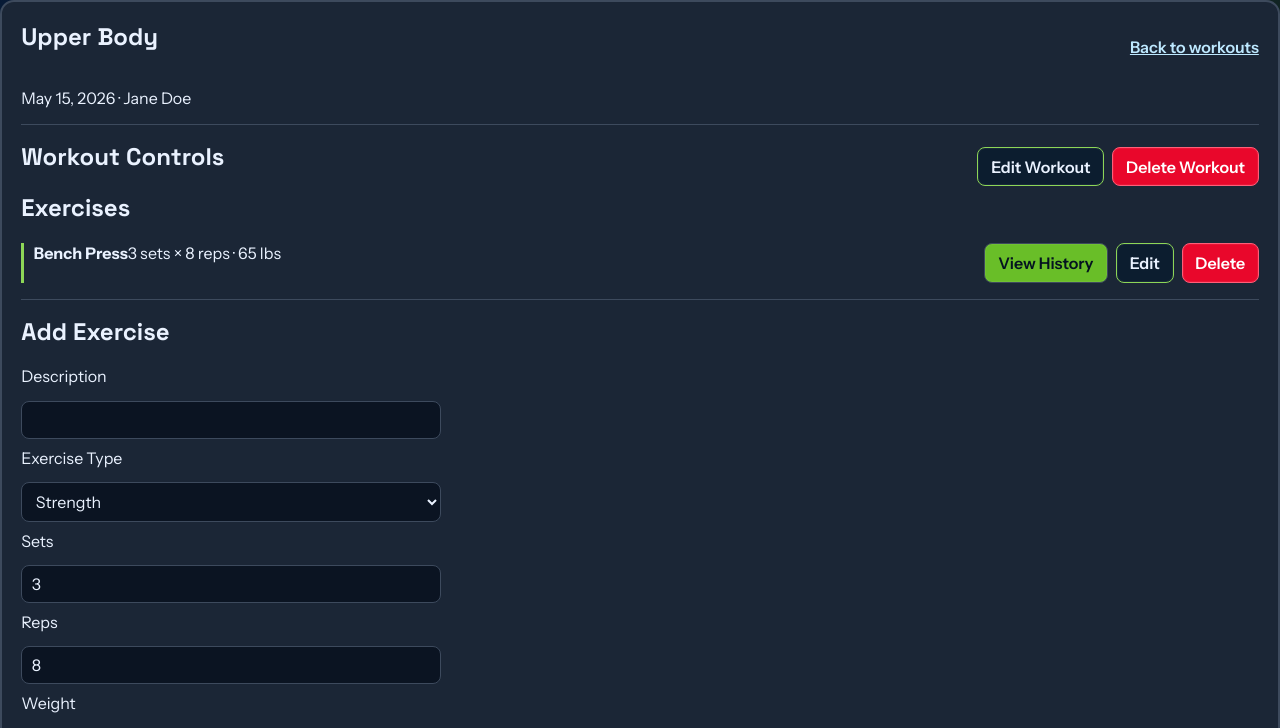
Test: WorkoutDetailPage › shows an error when workout deletion fails
Expected: the heading "Upper Body" is shown, [21, 21, 158, 52]
Click the button "Delete Workout" at (1186, 167), box [1112, 147, 1259, 186]
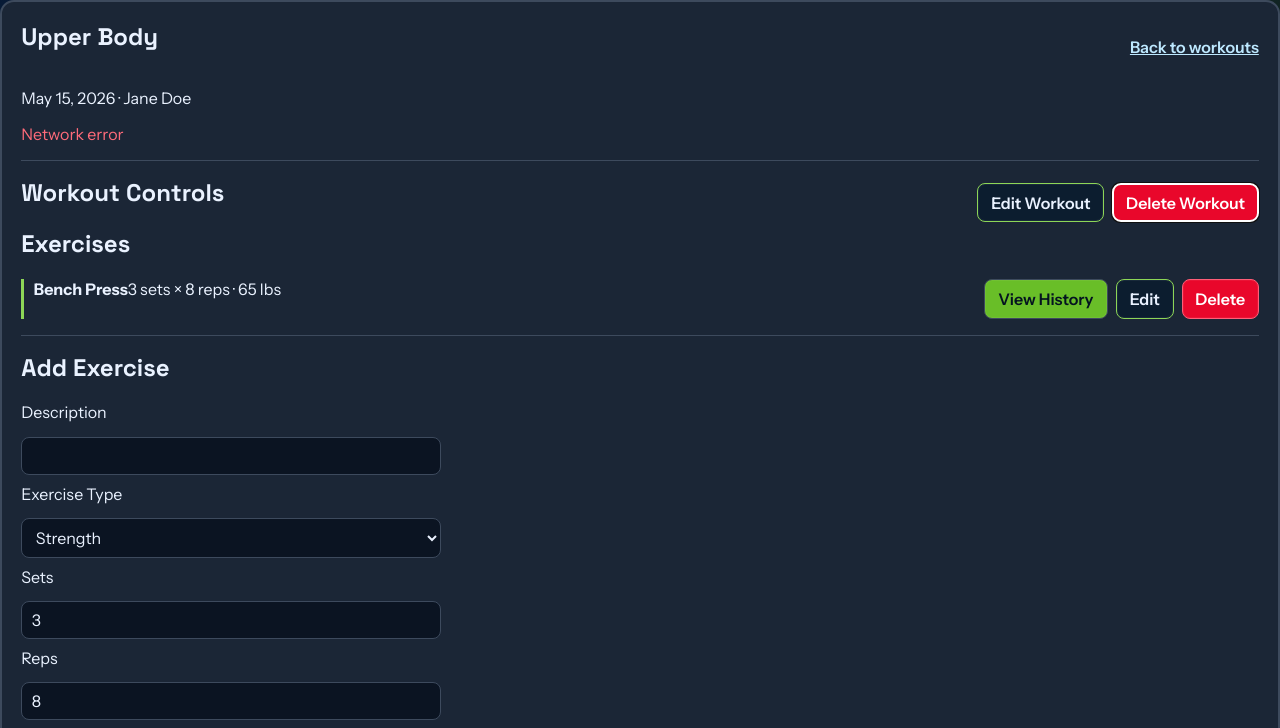
Expected: the text "Network error" is shown, [21, 124, 124, 144]
